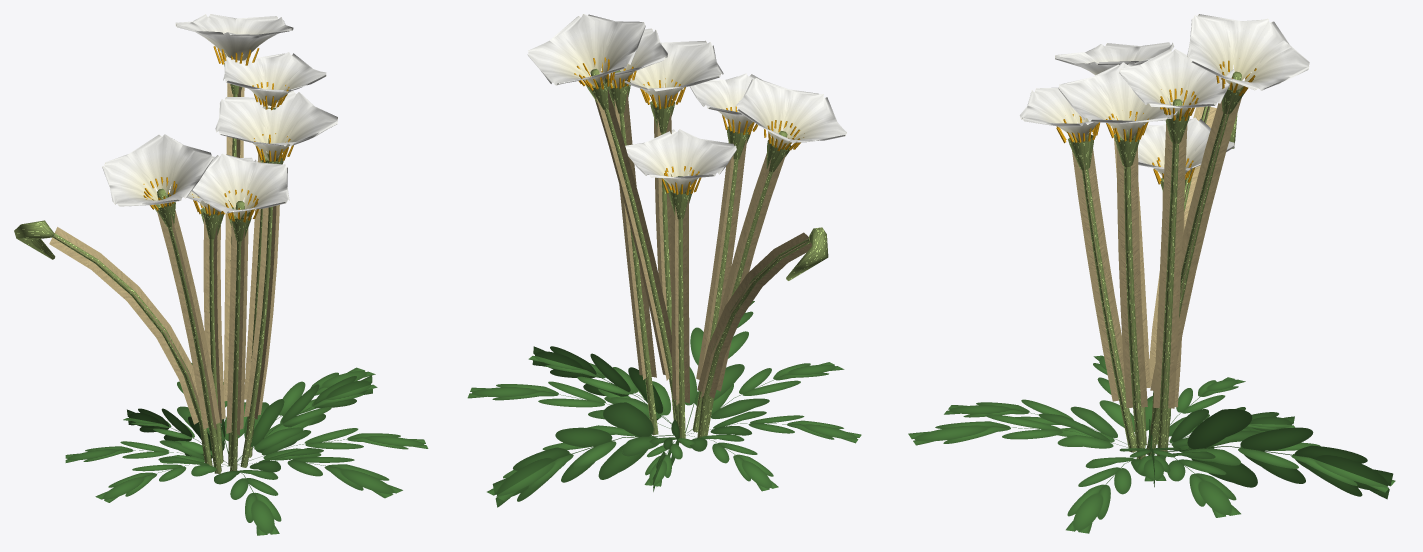
Rendered from arctic_poppy_v02.fbx.
3 renders of one model, left to right at view 1: azimuth 30°, elevation 25°; view 2: azimuth 150°, elevation 25°; view 3: azimuth 270°, elevation 25°, orthographic. The views are drawn at different scales.
Visible parts, largest first — view 1: arctic_poppy_v02; view 2: arctic_poppy_v02; view 3: arctic_poppy_v02.
Part boxes in pixels (x1,y1,x2,y2): arctic_poppy_v02: (14,14,428,535); arctic_poppy_v02: (467,14,861,507); arctic_poppy_v02: (908,14,1395,533).
Size of the model in its own units: 20.46 by 23.02 by 24.58.
Materials: 5 (5 with a texture image).
